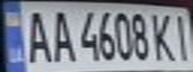0: (112, 8, 133, 61)
4: (72, 7, 100, 62)
6: (97, 8, 118, 62)
8: (130, 9, 154, 62)
A: (18, 6, 54, 64), (45, 6, 75, 63)
I: (169, 10, 193, 62)
K: (148, 10, 178, 63)
